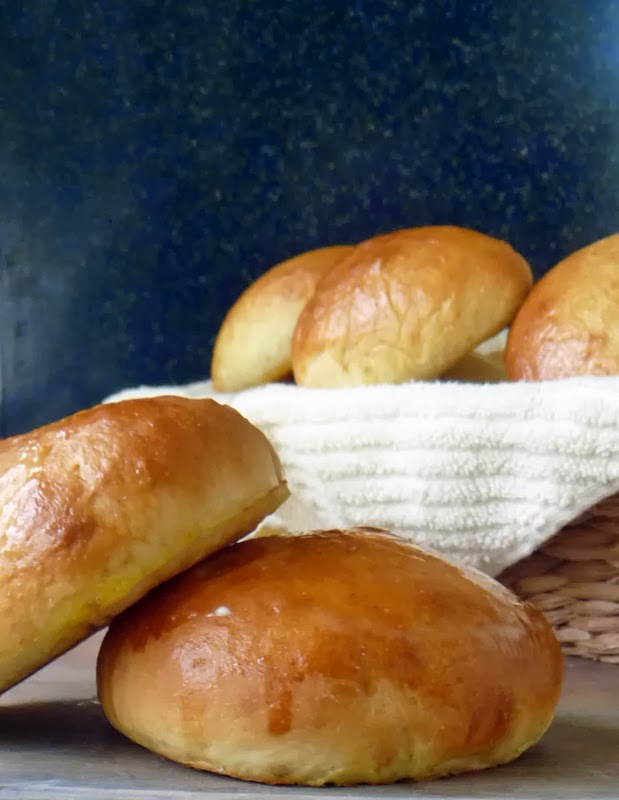hamburger_buns: (92, 476, 566, 797), (1, 365, 384, 681), (221, 178, 619, 402)
